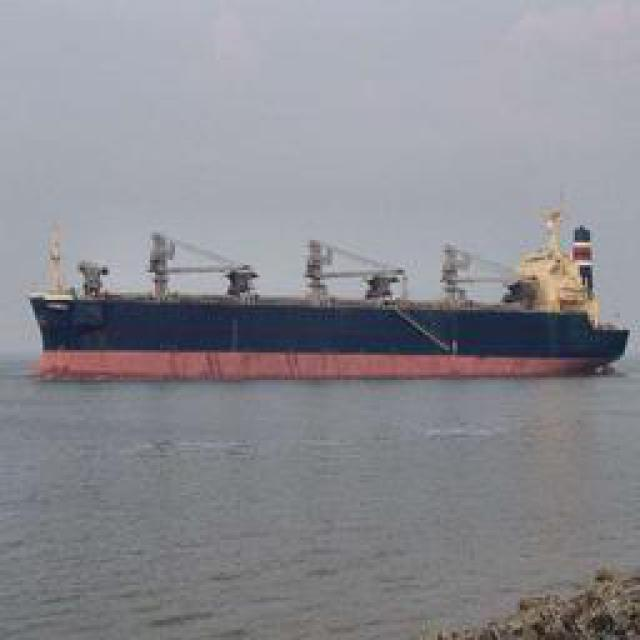Ship: (20, 216, 633, 386)
